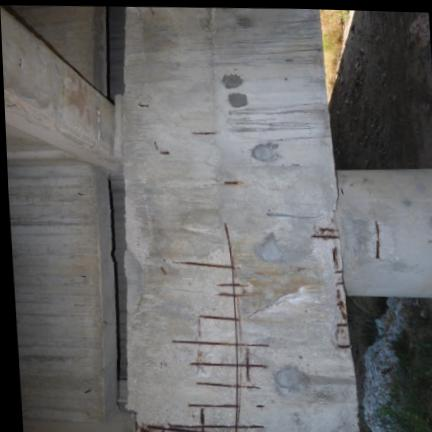Exposed Rebar: (142, 229, 264, 432)
beam: (0, 4, 122, 170)
pier cap: (126, 5, 360, 432)
